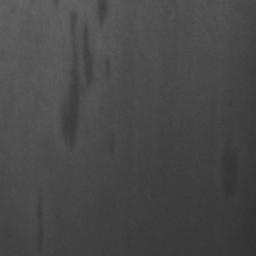Inclusion: (60, 10, 91, 148), (220, 147, 238, 195), (99, 0, 110, 24)
